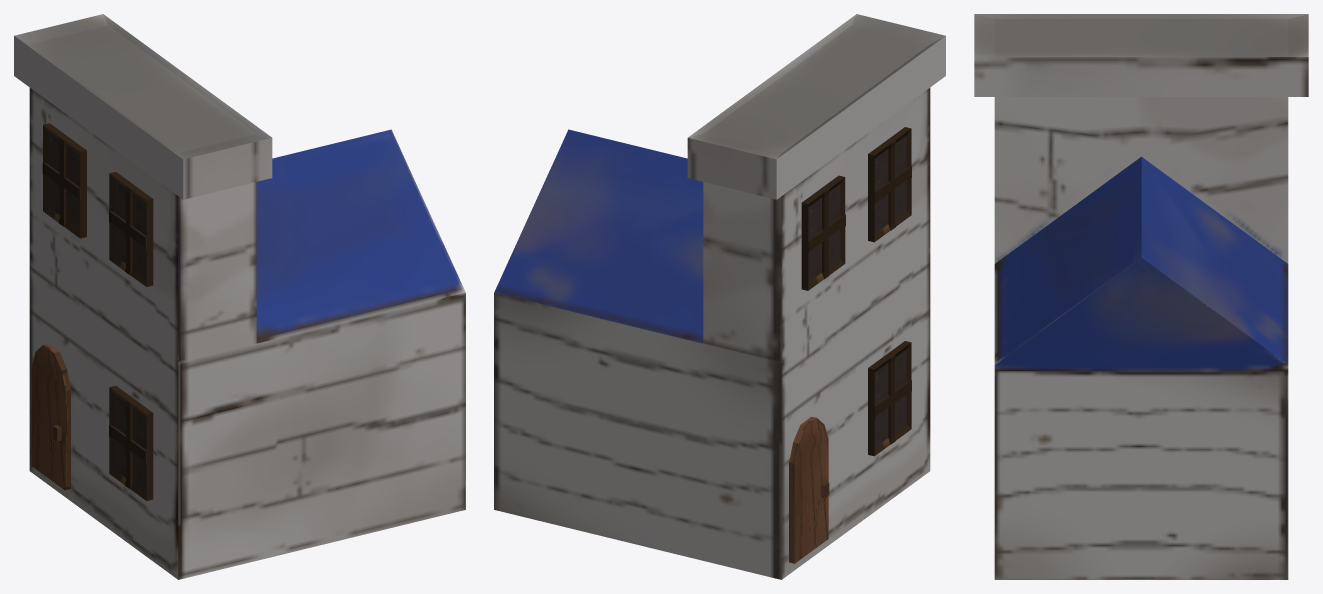
Rendered from buildingwithassets.obj.
The picture shows the model from 3 angles, left to right: view 1: azimuth 30°, elevation 25°; view 2: azimuth 150°, elevation 25°; view 3: azimuth 270°, elevation 25°; orthographic projection.
Visible parts, largest first — view 1: Cube.004_Cube.000, Cube.000, Cube.005, Cube.004, Cube.006; view 2: Cube.004_Cube.000, Cube.000, Cube.006, Cube.005, Cube.004; view 3: Cube.004_Cube.000.
Part boxes in pixels (<box>): Cube.004_Cube.000: <box>14,14,465,579</box>; Cube.000: <box>31,343,70,490</box>; Cube.005: <box>109,171,153,286</box>; Cube.004: <box>109,385,153,500</box>; Cube.006: <box>42,123,86,238</box>; Cube.004_Cube.000: <box>494,14,945,579</box>; Cube.000: <box>789,416,829,563</box>; Cube.006: <box>801,175,845,290</box>; Cube.005: <box>868,127,911,242</box>; Cube.004: <box>868,341,911,456</box>; Cube.004_Cube.000: <box>974,14,1308,579</box>.
Bounding box in the file's own units: 8.8 × 12.14 × 8.66.
